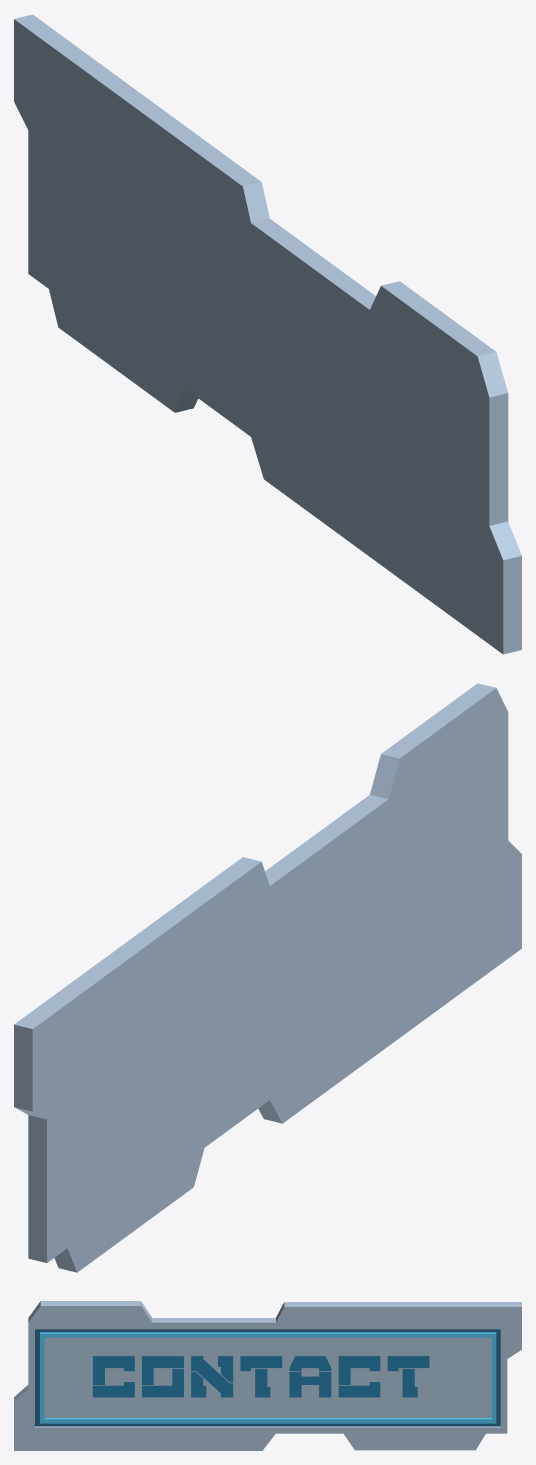
Rendered from titlu-contact.glb.
3 views of the same model, one above another, from view 1: azimuth 30°, elevation 25°; view 2: azimuth 150°, elevation 25°; view 3: azimuth 270°, elevation 25° (orthographic). The views are drawn at different scales.
Parts seen in each view (by area): view 1: holograma; view 2: holograma; view 3: textbox, holograma, rama_interioara, rama_interioara.001.
Boxes of the visible parts, x1,y1,x2,y2 form: holograma: [14, 14, 521, 654]; holograma: [14, 683, 521, 1272]; textbox: [44, 1337, 491, 1417]; holograma: [14, 1301, 521, 1450]; rama_interioara: [40, 1332, 496, 1423]; rama_interioara.001: [35, 1329, 500, 1426].
Size of the model in its own units: 0.1215 by 1.73 by 5.48.
4 materials, 1 textured.
